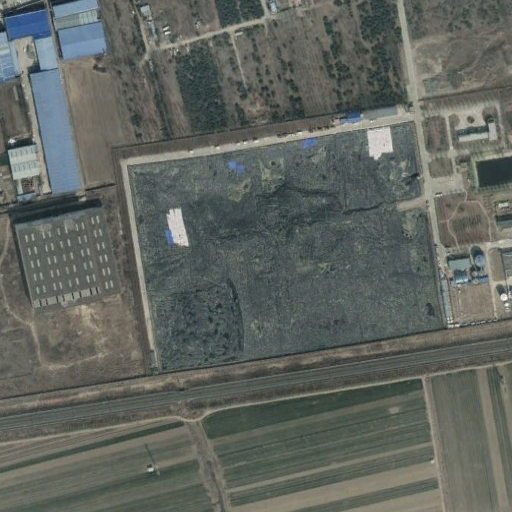lf: (128, 120, 447, 374)
